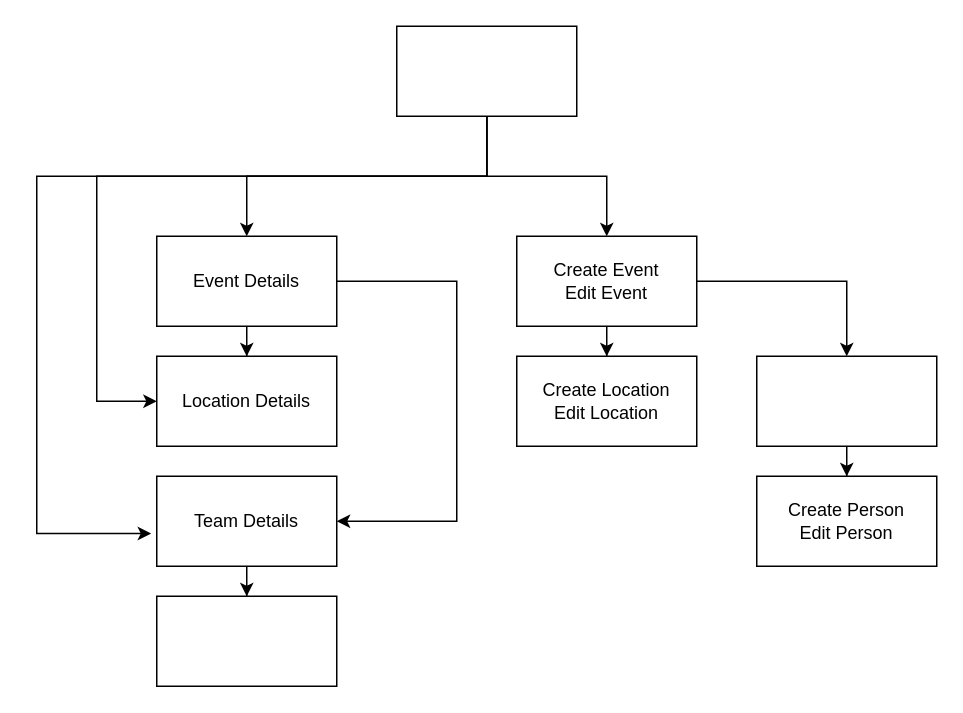
Some shapes in this 963 by 713 pixel diagram are drawn without their labels. Each missing label, with the centre of its shape:
Create Team Edit Team: the point at 846,400
Event List: the point at 486,70
Person Details: the point at 246,640
